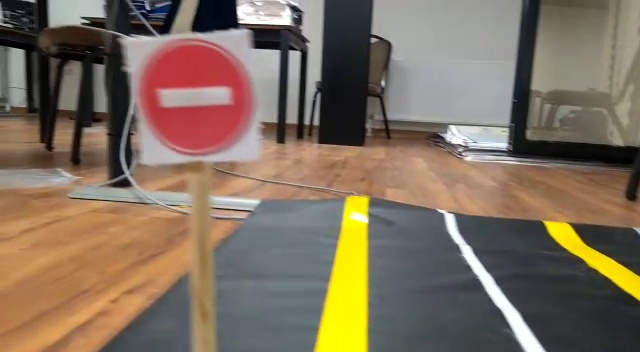girisi_olmayan_yol: (137, 34, 260, 159)
